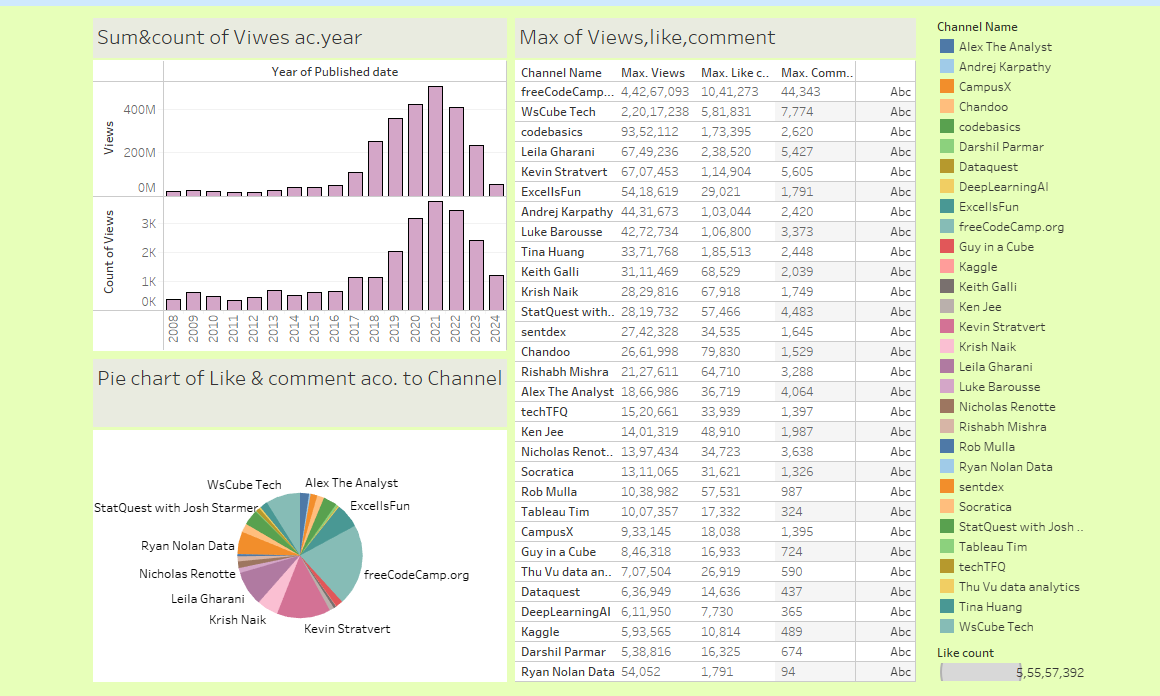

Layout of this report page (visuals, bound fields, positions):
{"tool":"tableau","page":{"name":"Dashboard 3","canvas":[1000,1000],"units":"permille","ordinal":2},"visuals":[{"type":"worksheet","title":"Sum&count of Viwes ac.year","mark":"Bar","rows":["Views","Views"],"cols":["Published_date"],"box":[7.8,14.3,413.7,485.7]},{"type":"worksheet","title":"Max of Views,like,comment","mark":"Automatic","rows":["Channel_Name","Views","Like_count","Comment_Count"],"box":[421.5,14.3,413.8,971.4]},{"type":"legend","title":"Pie chart of Like & comment aco. to Channel","param":"[federated.0sgo8ef1tycyrm17zvssy0ikcol6].[none:Channel_Name:nk]","box":[835.3,14.3,156.9,889.3]},{"type":"worksheet","title":"Pie chart of Like & comment aco. to Channel","mark":"Pie","box":[7.8,500,413.7,485.7]},{"type":"legend","title":"Pie chart of Like & comment aco. to Channel","param":"[federated.0sgo8ef1tycyrm17zvssy0ikcol6].[sum:Like_count:qk]","box":[835.3,903.6,156.9,82.2]}]}

Visuals, with their boxes on the dashboard's canvas, which has no fixed pixel size, in thousandths of its width and height (x1, y1, x2, y2). These are canvas units, not pixel positions in the 1160x696 screenshot, which may show the page scaled, cropped or inside an application window:
"Sum&count of Viwes ac.year" worksheet (Bar marks): l=8, t=14, r=422, b=500
"Max of Views,like,comment" worksheet: l=422, t=14, r=835, b=986
"Pie chart of Like & comment aco. to Channel" legend: l=835, t=14, r=992, b=904
"Pie chart of Like & comment aco. to Channel" worksheet (Pie marks): l=8, t=500, r=422, b=986
"Pie chart of Like & comment aco. to Channel" legend: l=835, t=904, r=992, b=986
